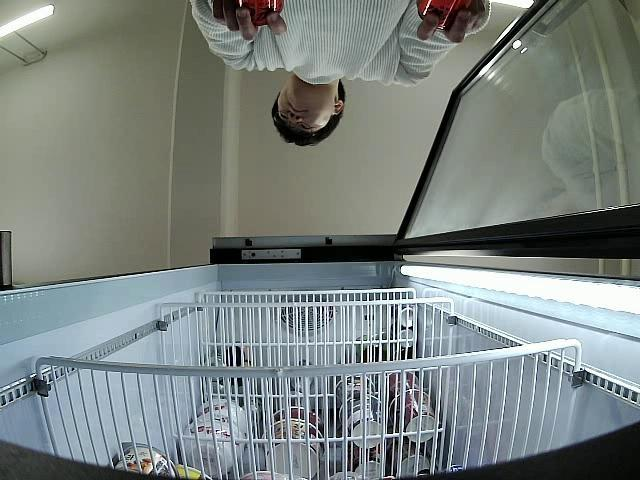11_cocaColaZero: (417, 0, 478, 30), (224, 0, 282, 30)
